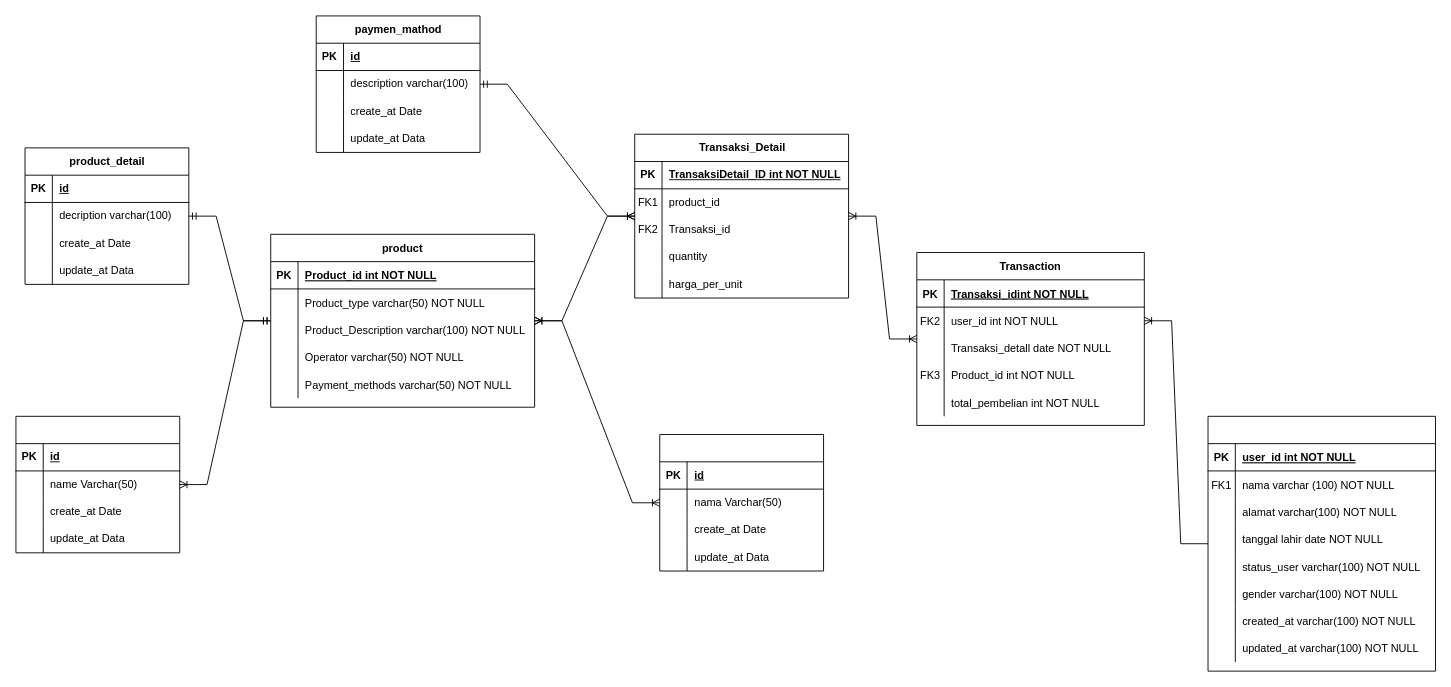
Some shapes in this 1451 by 687 pixel diagram are drawn without their labels. The box of each missing label's shape, as (x1, y1, x2, y2) in pixels:
Operator: (15, 415, 180, 553)
pelanggan: (1207, 415, 1436, 671)
Product_type: (659, 434, 824, 571)
